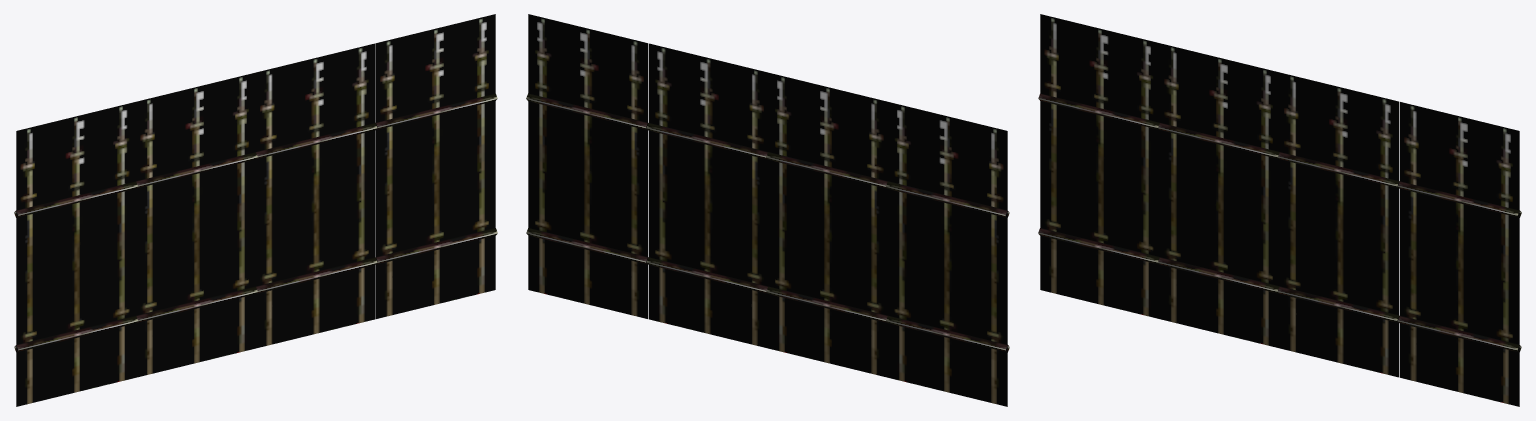
3 views of the same model, side by side, from view 1: azimuth 30°, elevation 25°; view 2: azimuth 150°, elevation 25°; view 3: azimuth 330°, elevation 25° (orthographic).
Visible parts, largest first — view 1: SteelWall02; view 2: SteelWall02; view 3: SteelWall02.
Boxes of the visible parts, bbox=[...] form: SteelWall02: bbox=[14, 14, 497, 406]; SteelWall02: bbox=[526, 14, 1009, 406]; SteelWall02: bbox=[1038, 14, 1521, 406].
Bounding box in the file's own units: 400 × 220 × 6.44.
